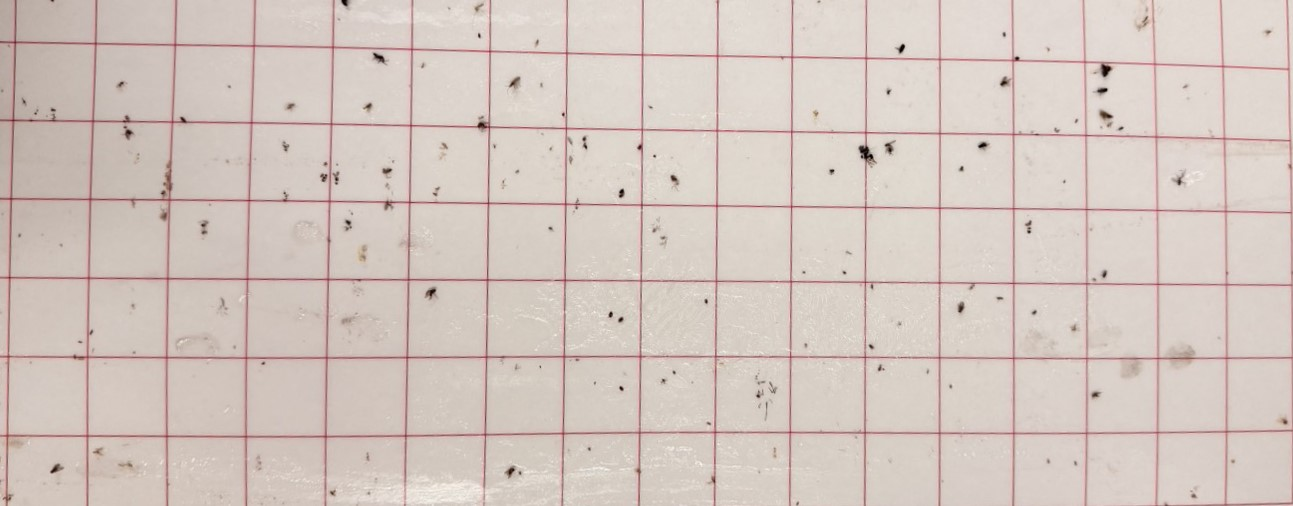test: (857, 144, 876, 166), (1171, 168, 1187, 187), (371, 51, 390, 67), (505, 75, 523, 91), (1097, 107, 1115, 123), (1099, 61, 1114, 79), (423, 285, 440, 300), (882, 138, 897, 155), (997, 75, 1014, 89), (48, 462, 67, 474), (471, 1, 487, 15), (1023, 217, 1035, 235), (503, 466, 517, 480), (1095, 85, 1110, 97), (475, 119, 488, 131), (123, 128, 135, 141), (361, 101, 374, 112), (977, 140, 990, 150), (956, 301, 965, 315), (896, 43, 907, 54), (285, 101, 296, 112), (159, 211, 169, 223), (383, 201, 395, 211), (1069, 323, 1079, 334), (117, 79, 127, 90), (617, 187, 626, 199), (381, 166, 393, 175), (280, 142, 291, 151), (566, 136, 575, 147), (123, 113, 131, 125), (567, 154, 575, 166), (669, 174, 679, 183), (995, 294, 1005, 303), (1100, 269, 1109, 279), (967, 281, 976, 291), (341, 0, 351, 9), (93, 446, 103, 455), (1090, 390, 1101, 398), (867, 342, 876, 351), (320, 172, 329, 181), (1281, 417, 1289, 427), (813, 109, 821, 119), (179, 115, 187, 125), (441, 141, 449, 151), (617, 315, 625, 324), (606, 310, 614, 319), (958, 165, 967, 173), (1053, 126, 1061, 135), (803, 341, 811, 350), (1263, 27, 1272, 35), (199, 221, 208, 229), (885, 87, 893, 95), (582, 143, 590, 151), (1091, 276, 1099, 284), (635, 467, 643, 475), (329, 489, 337, 497), (87, 328, 95, 336), (21, 97, 29, 105), (49, 107, 57, 115), (845, 249, 853, 257), (877, 365, 884, 374), (1189, 492, 1198, 499), (650, 226, 657, 235), (1181, 83, 1190, 90), (282, 189, 288, 199), (636, 143, 643, 151), (703, 298, 710, 306), (646, 103, 654, 110), (618, 385, 626, 392), (660, 377, 667, 385), (581, 135, 588, 143), (1117, 125, 1125, 132), (1044, 458, 1052, 465), (1229, 458, 1237, 465), (1001, 31, 1008, 39), (533, 39, 541, 46), (419, 62, 426, 70), (226, 83, 233, 91), (231, 344, 239, 351), (514, 168, 521, 175), (1031, 309, 1038, 316), (1073, 117, 1080, 124), (586, 446, 593, 453), (476, 32, 483, 39), (432, 191, 439, 198), (710, 476, 717, 483), (547, 225, 553, 233), (671, 369, 679, 375), (948, 383, 954, 391), (705, 421, 713, 427), (925, 368, 931, 376), (779, 55, 787, 61), (344, 219, 352, 225), (58, 243, 66, 249), (201, 229, 207, 237), (333, 175, 341, 181), (260, 361, 267, 367), (801, 269, 808, 275), (896, 320, 902, 327), (1061, 178, 1067, 185), (592, 379, 598, 386), (1014, 55, 1021, 61), (1045, 46, 1051, 53), (130, 303, 137, 309), (322, 161, 329, 167), (71, 354, 79, 359), (829, 168, 835, 174), (869, 283, 875, 289), (755, 393, 761, 399), (1073, 459, 1079, 465), (538, 82, 544, 88), (77, 339, 83, 345), (17, 233, 23, 239), (131, 349, 137, 355), (547, 146, 554, 151), (161, 189, 166, 196), (794, 501, 801, 506), (652, 154, 658, 159), (842, 269, 847, 275), (560, 111, 565, 117), (574, 357, 580, 362), (517, 471, 523, 476), (492, 143, 497, 149), (538, 364, 543, 370), (33, 111, 39, 115), (575, 205, 579, 211)
